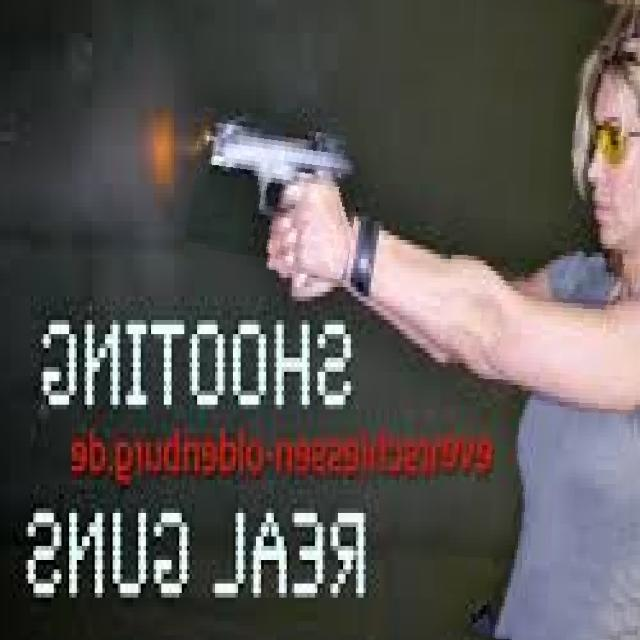Gun_Holder: (203, 92, 405, 262)
Person: (277, 25, 640, 605)
